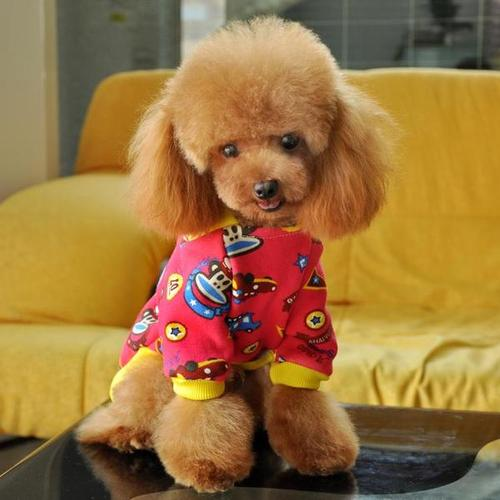dog: (76, 12, 406, 495)
